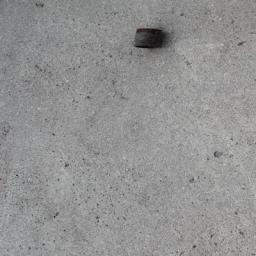FOD: (133, 26, 167, 53)
